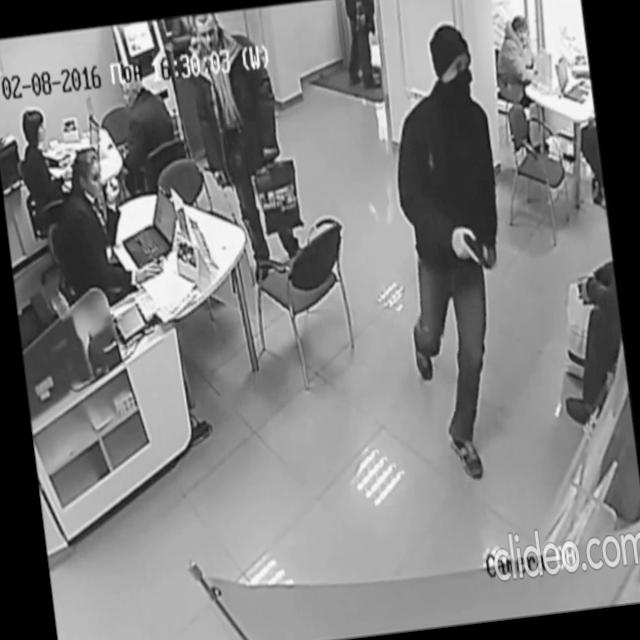gun: (460, 227, 493, 274)
person: (182, 4, 308, 286), (47, 136, 166, 311), (12, 101, 82, 236), (488, 11, 552, 157)
person with a gun: (374, 18, 534, 488)
